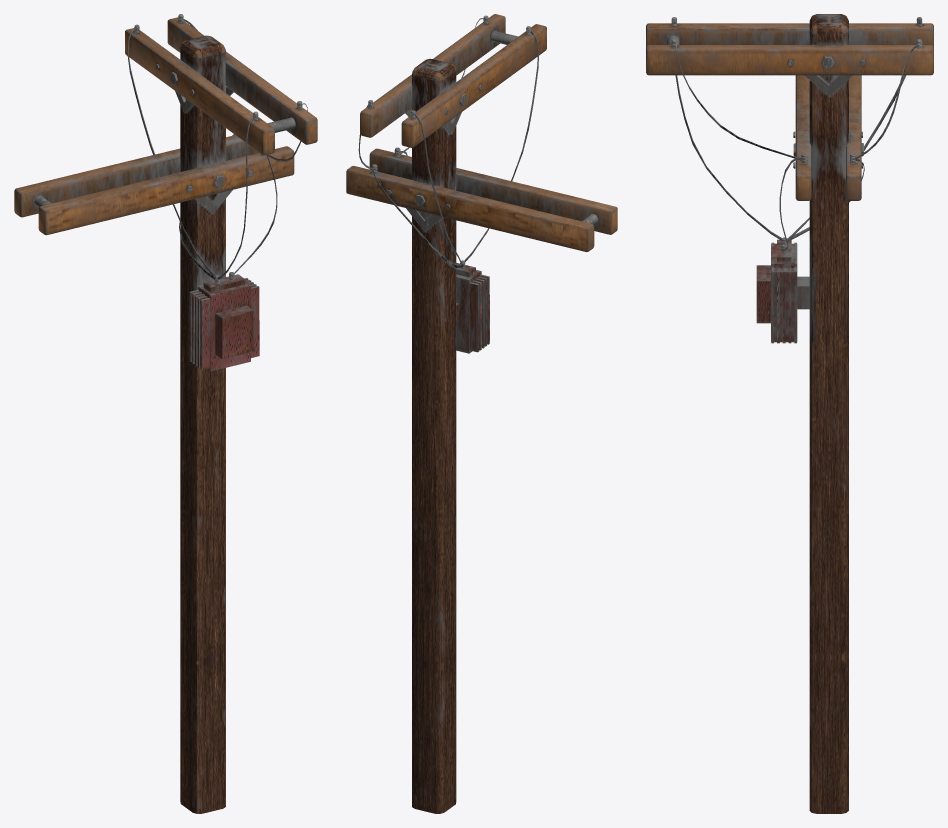
File: Broken electric pole part 2.fbx
The picture shows the model from 3 angles, left to right: view 1: azimuth 30°, elevation 25°; view 2: azimuth 150°, elevation 25°; view 3: azimuth 270°, elevation 25°; orthographic projection. The views are drawn at different scales.
Parts seen in each view (by area): view 1: NurbsPath.003; view 2: NurbsPath.003; view 3: NurbsPath.003.
Boxes of the visible parts, x1,y1,x2,y2 form: NurbsPath.003: (14,14,317,813); NurbsPath.003: (346,14,617,813); NurbsPath.003: (646,14,933,813).
Bounding box in the file's own units: 231 × 672 × 223.
Materials: 1 (1 with a texture image).
